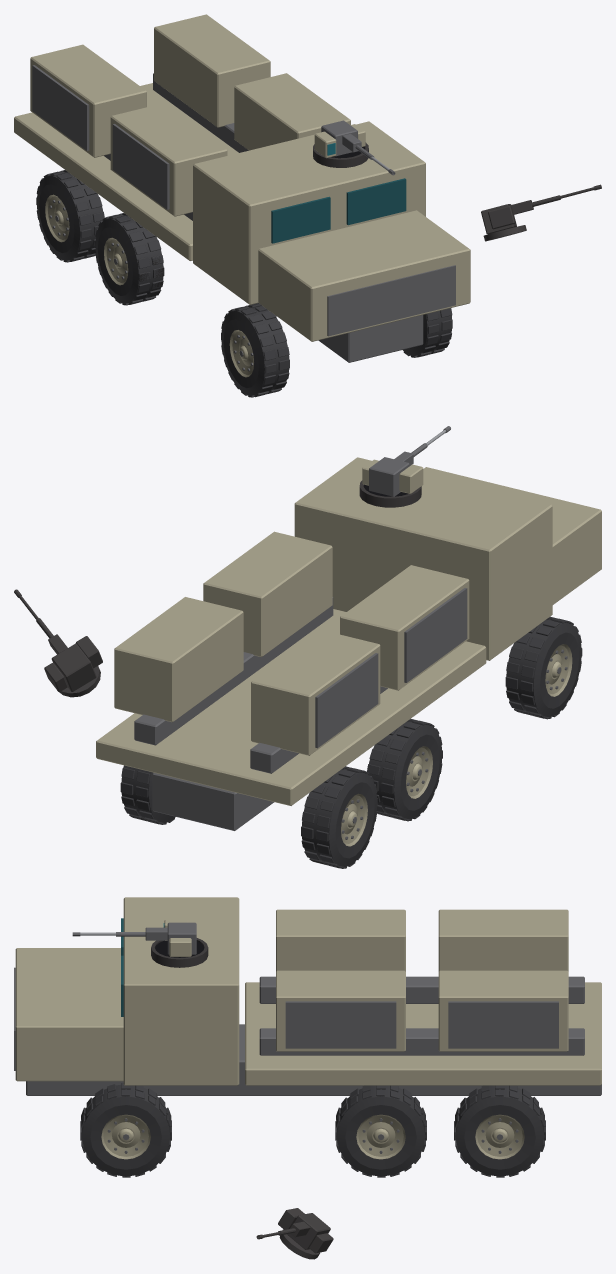
Rendered from mineLayer__km138_truck.glb.
3 renders of one model, top to bottom at view 1: azimuth 30°, elevation 25°; view 2: azimuth 150°, elevation 25°; view 3: azimuth 270°, elevation 25°, orthographic. The views are drawn at different scales.
Parts seen in each view (by area): view 1: Hull_Mesh, Wheel_L2_Mesh, Wheel_L1_Mesh, Wheel_L0_Mesh, Wreck, Wheel_R2_Mesh, Turret_Mesh; view 2: Hull_Mesh, Wheel_L2_Mesh, Wheel_L0_Mesh, Wheel_L1_Mesh, Wreck, Turret_Mesh, Wheel_R0_Mesh; view 3: Hull_Mesh, Wheel_R2_Mesh, Wheel_R0_Mesh, Wheel_R1_Mesh, Wreck, Turret_Mesh, Gun_Mesh.
Boxes of the visible parts, x1,y1,x2,y2 form: Hull_Mesh: (14, 14, 470, 362); Wheel_L2_Mesh: (221, 303, 289, 397); Wheel_L1_Mesh: (95, 213, 164, 305); Wheel_L0_Mesh: (36, 170, 104, 262); Wreck: (74, 142, 601, 394); Wheel_R2_Mesh: (403, 308, 452, 357); Turret_Mesh: (314, 120, 365, 158); Hull_Mesh: (96, 457, 601, 830); Wheel_L2_Mesh: (505, 616, 582, 719); Wheel_L0_Mesh: (301, 766, 377, 868); Wheel_L1_Mesh: (367, 719, 442, 821); Wreck: (14, 480, 542, 867); Turret_Mesh: (362, 457, 423, 496); Wheel_R0_Mesh: (120, 765, 175, 824); Hull_Mesh: (14, 897, 601, 1095); Wheel_R2_Mesh: (80, 1083, 171, 1177); Wheel_R0_Mesh: (454, 1085, 545, 1177); Wheel_R1_Mesh: (335, 1085, 426, 1177); Wreck: (151, 938, 333, 1259); Turret_Mesh: (163, 919, 196, 956); Gun_Mesh: (72, 927, 167, 940).
Size of what is drawn, in the model's own units: 5.87 by 2.84 by 6.92.
